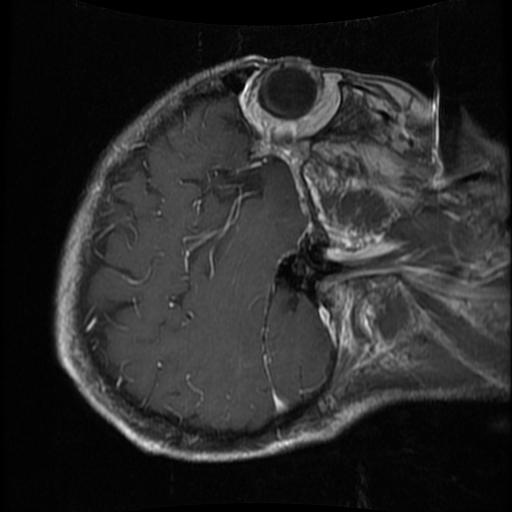glioma: (198, 170, 264, 205)
